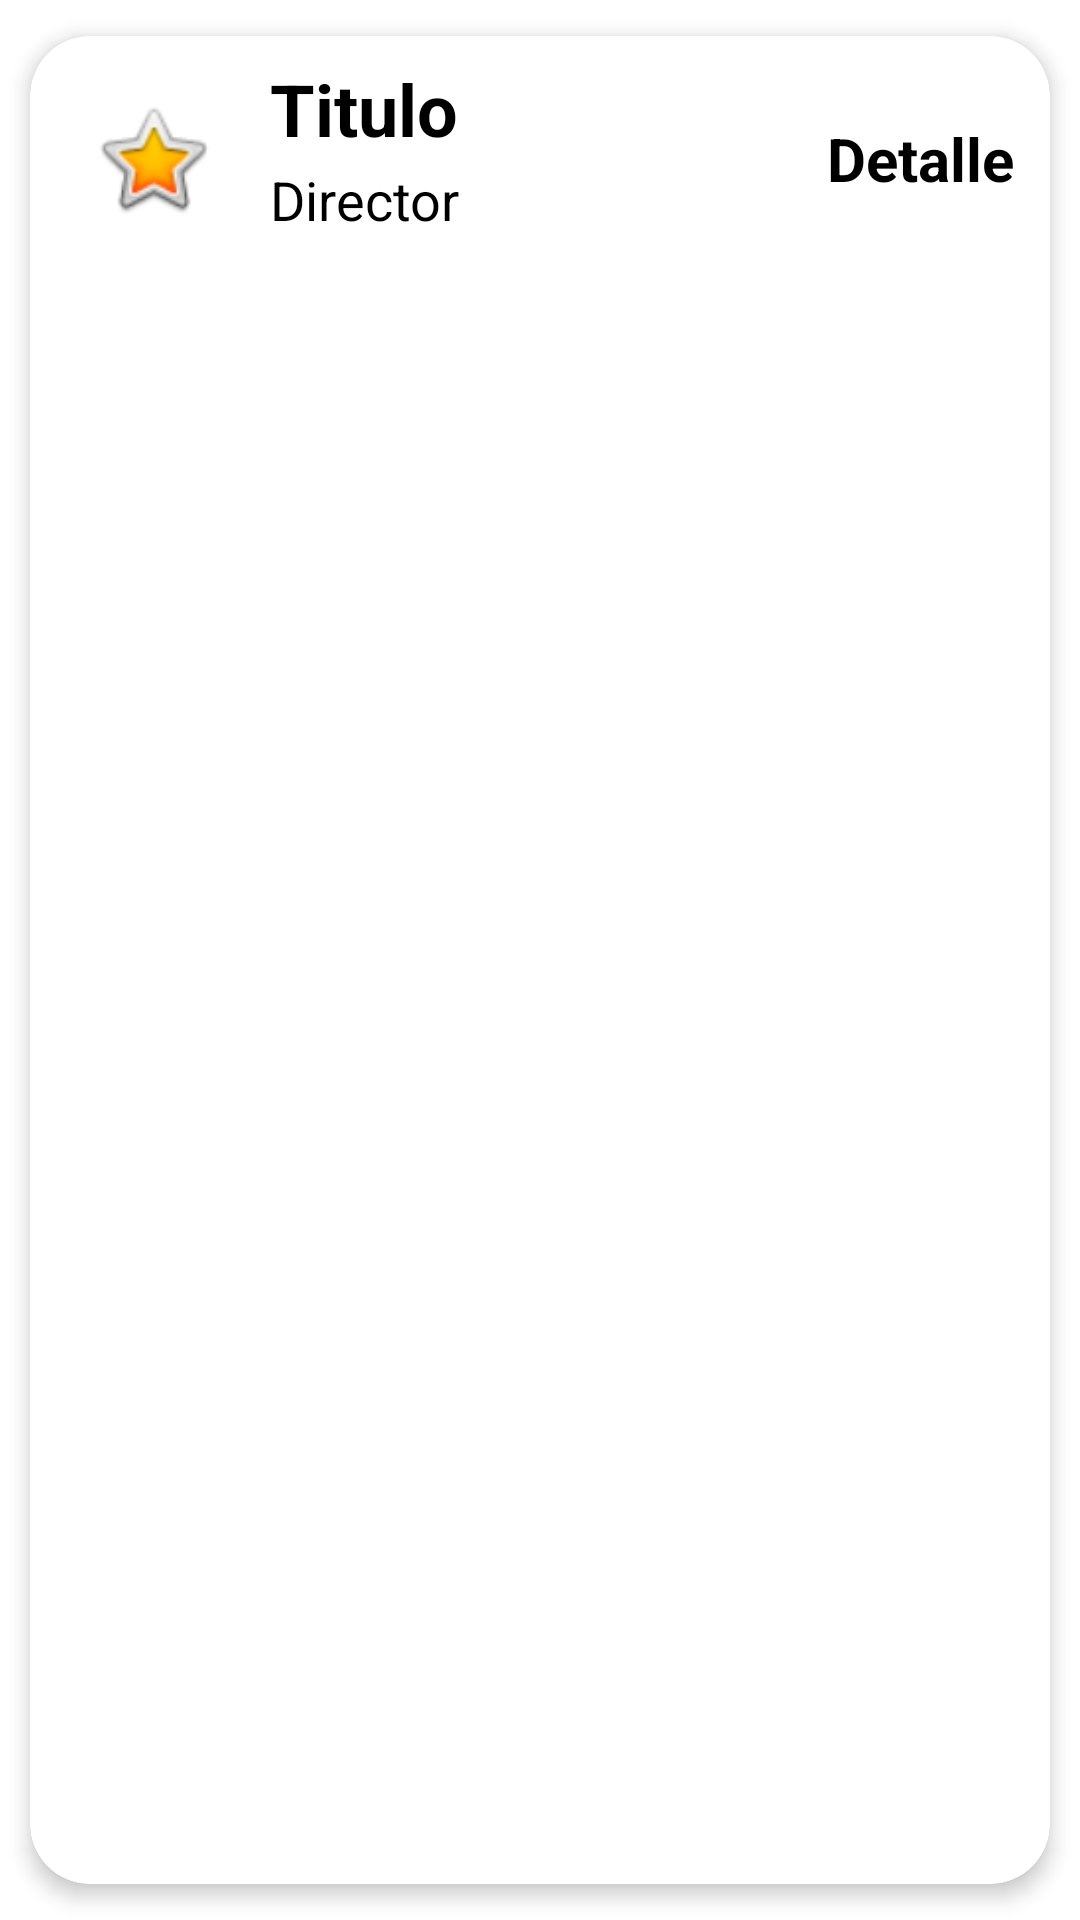

Icon bounding boxes for this 1080x1920 phone screenshot, format box=[x1, y1, x2, y2]:
star on: box=[101, 109, 207, 211]
